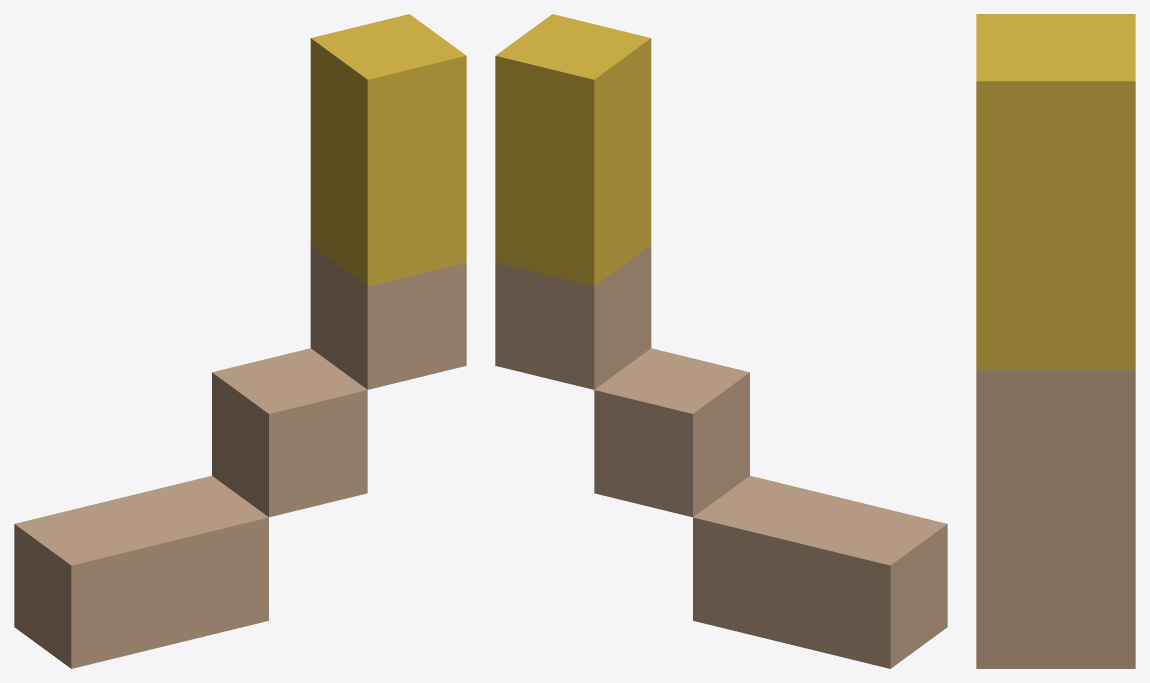
The model's file is orc-10-right_hand_attack.obj.
The picture shows the model from 3 angles, left to right: view 1: azimuth 30°, elevation 25°; view 2: azimuth 150°, elevation 25°; view 3: azimuth 270°, elevation 25°; orthographic projection. The views are drawn at different scales.
Visible parts, largest first — view 1: right_hand_attack; view 2: right_hand_attack; view 3: right_hand_attack.
Part boxes in pixels (<box>): right_hand_attack: <box>14,14,466,668</box>; right_hand_attack: <box>495,14,947,668</box>; right_hand_attack: <box>976,14,1135,668</box>.
Size of the model in its own units: 0.4 by 0.5 by 0.1.
1 material, 1 textured.
